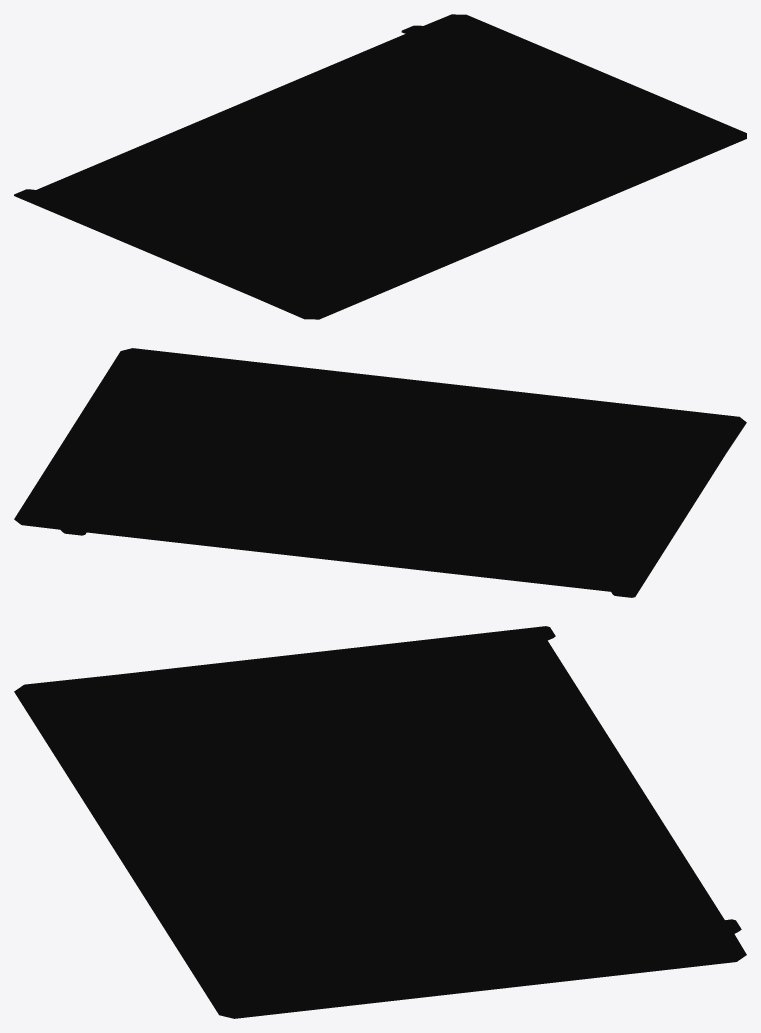
3 renders of one model, top to bottom at view 1: azimuth 30°, elevation 25°; view 2: azimuth 150°, elevation 25°; view 3: azimuth 270°, elevation 25°, orthographic. The views are drawn at different scales.
Parts seen in each view (by area): view 1: Joint_0_Object_0; view 2: Joint_0_Object_0; view 3: Joint_0_Object_0.
Boxes of the visible parts, x1,y1,x2,y2 form: Joint_0_Object_0: (14,14,746,319); Joint_0_Object_0: (14,348,746,597); Joint_0_Object_0: (14,626,746,1018).
Bounding box in the file's own units: 1876 × 0 × 1480.
1 material, 1 textured.
